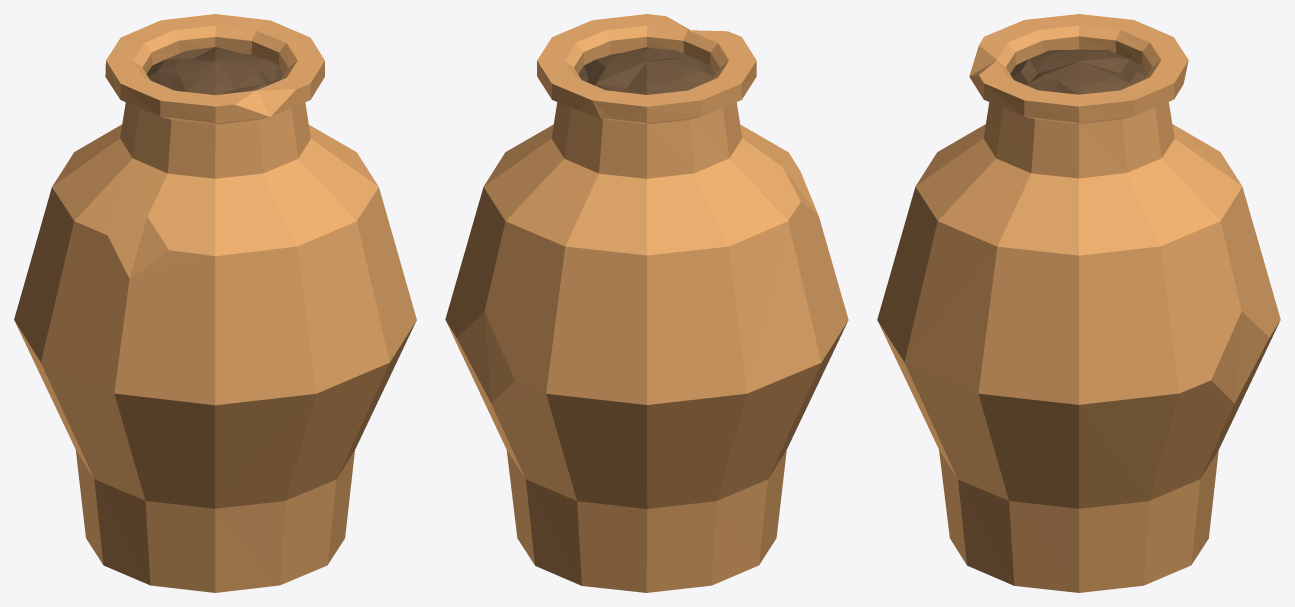
Rendered from SFHW_Vassel_016.fbx.
3 renders of one model, left to right at view 1: azimuth 30°, elevation 25°; view 2: azimuth 150°, elevation 25°; view 3: azimuth 270°, elevation 25°, orthographic.
Parts seen in each view (by area): view 1: SFHW_Vassel_016; view 2: SFHW_Vassel_016; view 3: SFHW_Vassel_016.
Part boxes in pixels (x1,y1,x2,y2): SFHW_Vassel_016: (14,14,416,592); SFHW_Vassel_016: (445,14,848,592); SFHW_Vassel_016: (877,14,1280,592).
Bounding box in the file's own units: 54.45 × 72.33 × 54.48.
